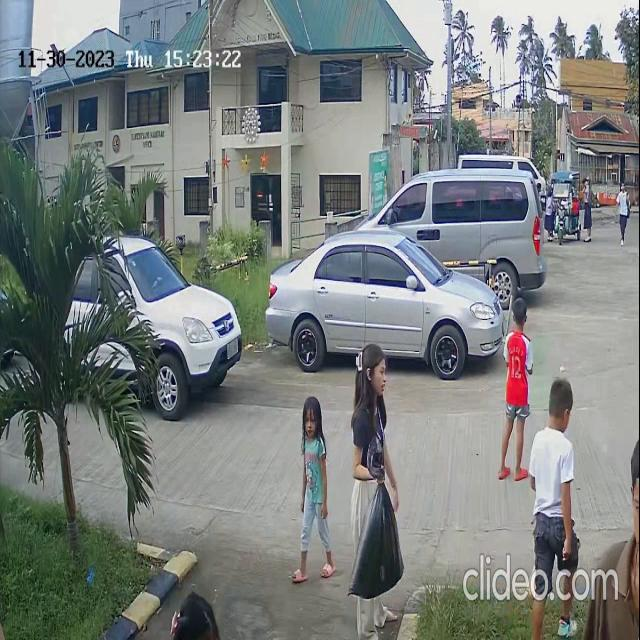garbage: (343, 450, 408, 604)
person: (295, 391, 337, 591), (538, 376, 578, 563), (504, 296, 531, 399), (354, 342, 390, 398), (616, 180, 633, 240)
